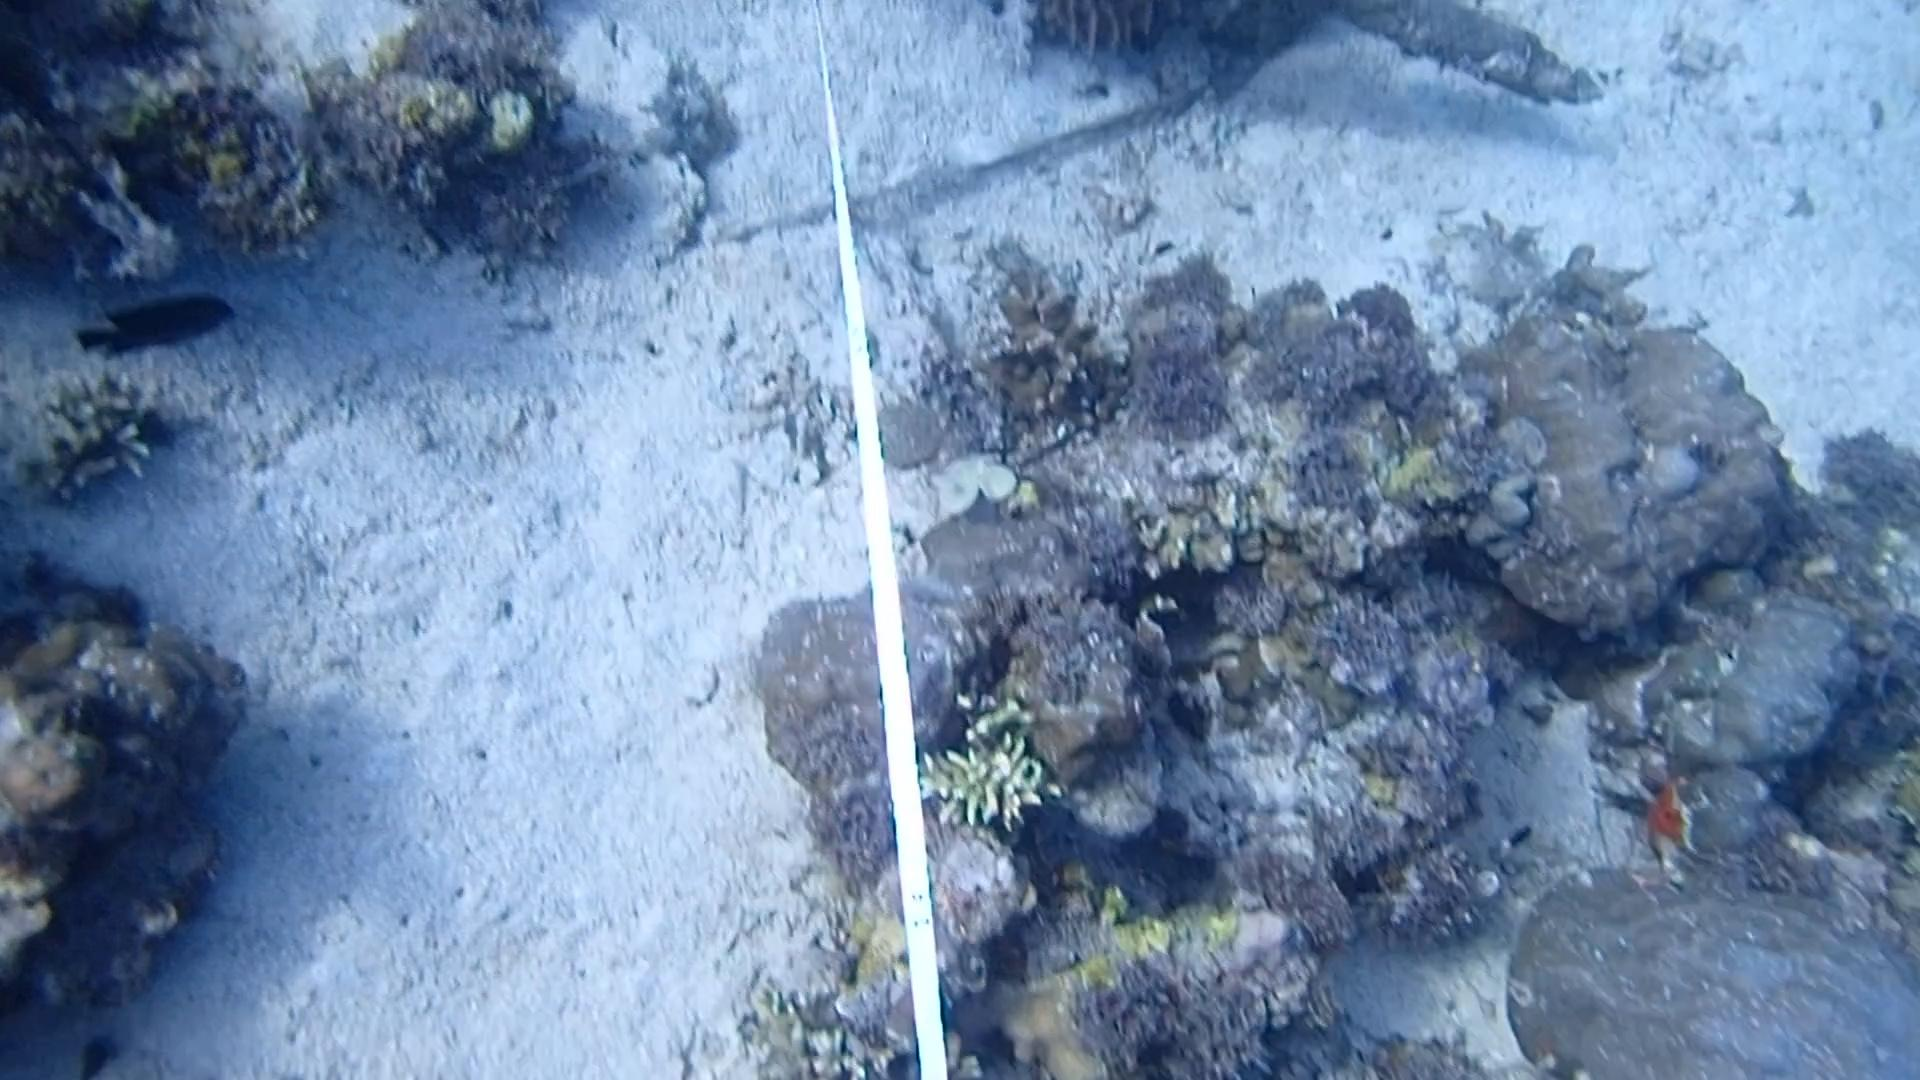Dark Fish: (67, 286, 244, 368)
